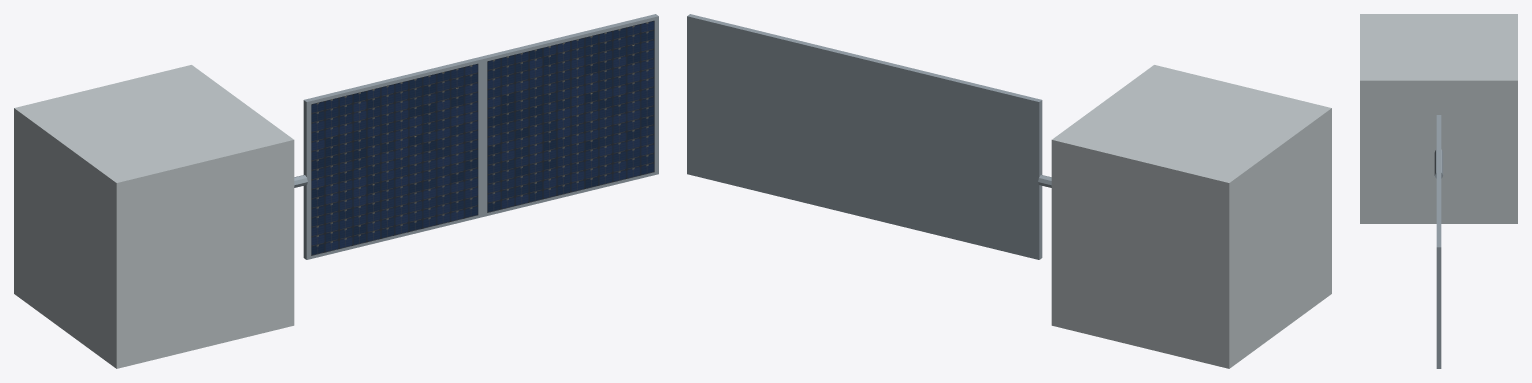
Rendered from ref-bnu-44529.glb.
3 views of the same model, side by side, from view 1: azimuth 30°, elevation 25°; view 2: azimuth 150°, elevation 25°; view 3: azimuth 270°, elevation 25° (orthographic). The views are drawn at different scales.
Visible parts, largest first — view 1: Spacecraft body, Photovoltaic laminates (×2), Array frame (×2); view 2: Spacecraft body, Array frame (×2); view 3: Spacecraft body, Array frame (×2), Solar array drive.
Part boxes in pixels (x1=…): Spacecraft body: x1=14, y1=65, x2=294, y2=368; Photovoltaic laminates (×2): x1=311, y1=20, x2=654, y2=255; Array frame (×2): x1=303, y1=14, x2=658, y2=259; Spacecraft body: x1=1051, y1=65, x2=1331, y2=368; Array frame (×2): x1=687, y1=14, x2=1042, y2=259; Spacecraft body: x1=1360, y1=14, x2=1517, y2=223; Array frame (×2): x1=1436, y1=115, x2=1441, y2=368; Solar array drive: x1=1434, y1=149, x2=1443, y2=178.
Bounding box in the file's own units: 1 × 0.3 × 0.3.
3 materials, 1 textured.
